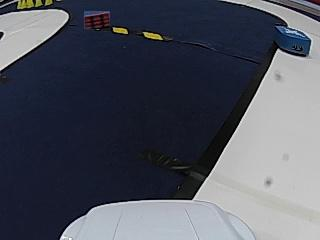prop: (275, 26, 310, 58)
